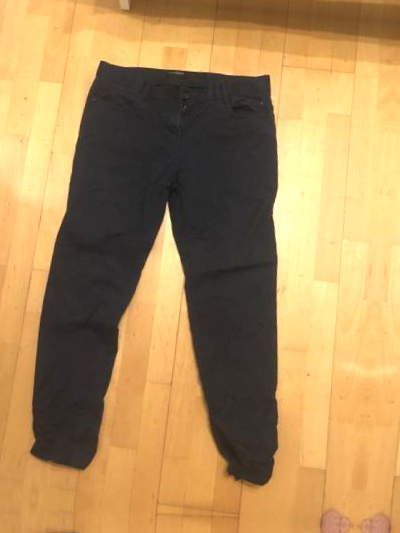Pants: (0, 26, 332, 492), (0, 524, 288, 533)
